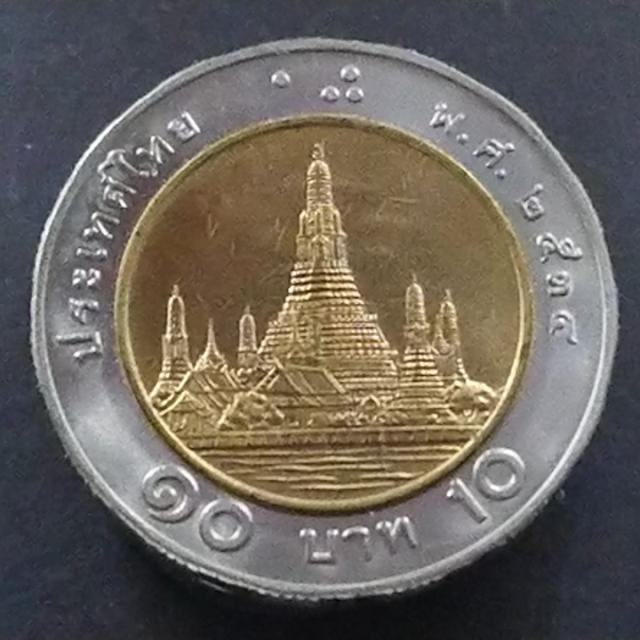10 Bath: (30, 40, 624, 609)
